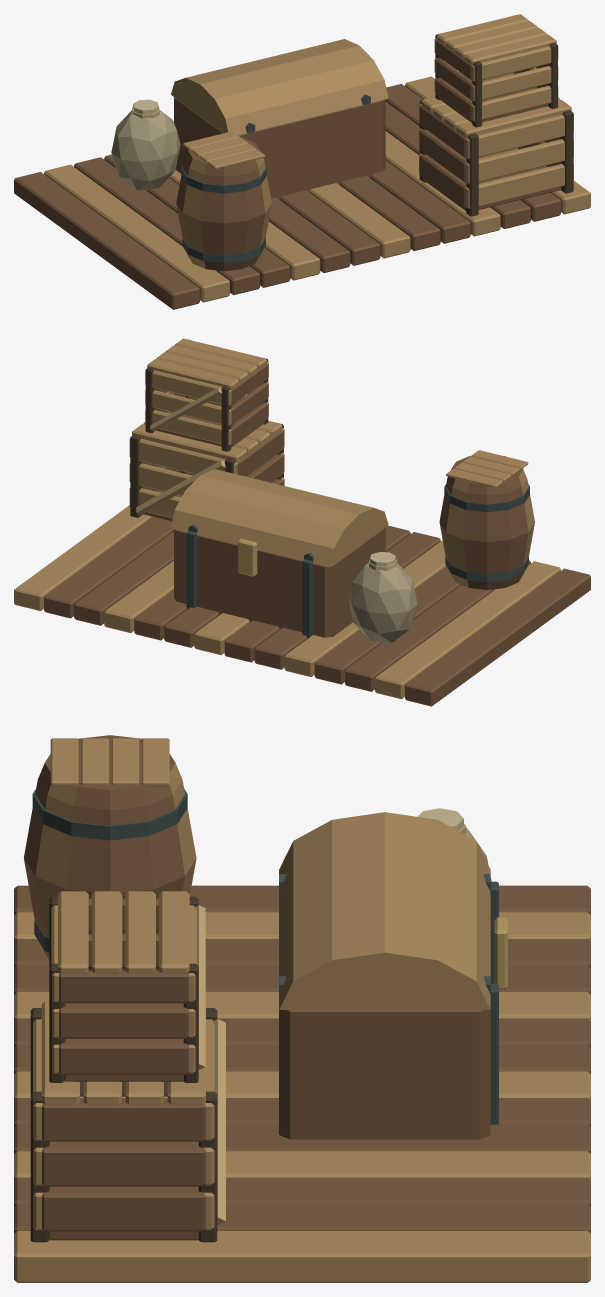
Rendered from Camp_Warehouse_L1.fbx.
3 views of the same model, one above another, from view 1: azimuth 30°, elevation 25°; view 2: azimuth 150°, elevation 25°; view 3: azimuth 270°, elevation 25° (orthographic). The views are drawn at different scales.
Visible parts, largest first — view 1: Camp_Warehouse_L1_Export; view 2: Camp_Warehouse_L1_Export; view 3: Camp_Warehouse_L1_Export.
Boxes of the visible parts, x1=… form: Camp_Warehouse_L1_Export: x1=14, y1=14, x2=590, y2=309; Camp_Warehouse_L1_Export: x1=14, y1=338, x2=590, y2=706; Camp_Warehouse_L1_Export: x1=14, y1=735, x2=590, y2=1282.
Bounding box in the file's own units: 3.19 × 1.2 × 2.1.
